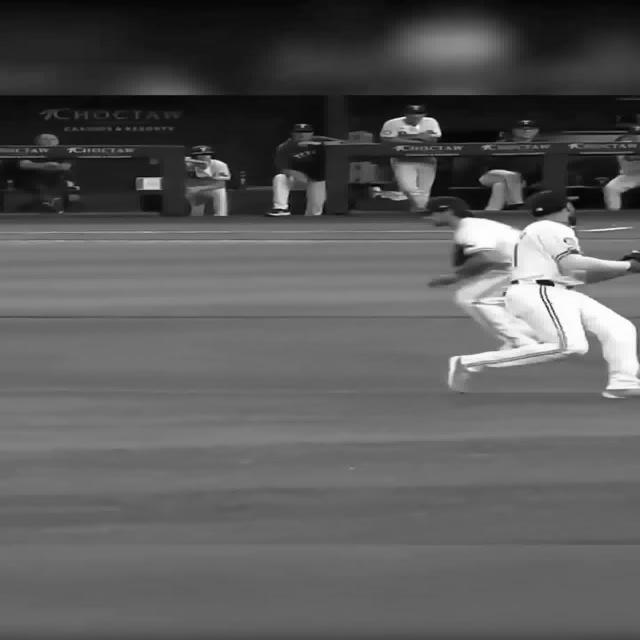shoe: (446, 355, 472, 393), (600, 386, 640, 398), (265, 209, 291, 216)
